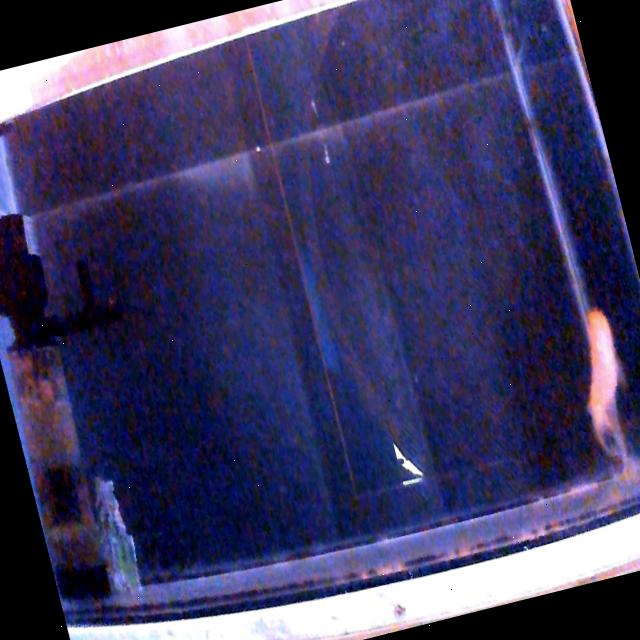fish: (563, 304, 640, 463)
